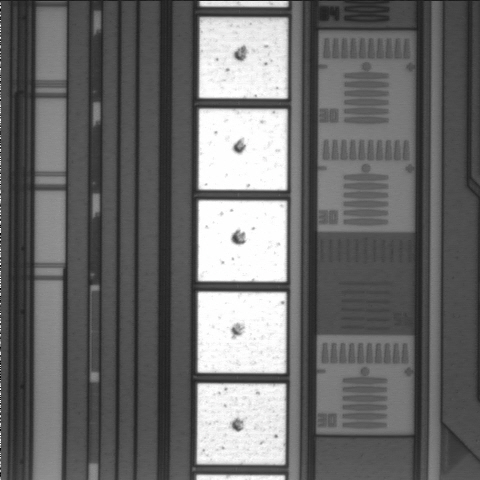pad: (199, 17, 288, 99), (198, 200, 287, 282), (197, 383, 286, 465), (198, 109, 288, 190), (198, 292, 286, 373)
